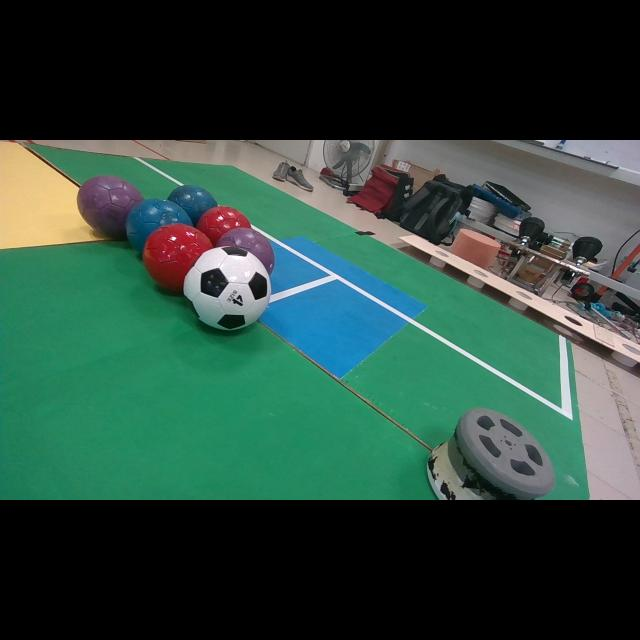B: (126, 199, 192, 251), (168, 186, 218, 226)
P: (78, 175, 144, 238), (217, 228, 275, 273)
R: (142, 224, 212, 292), (196, 206, 251, 246)
